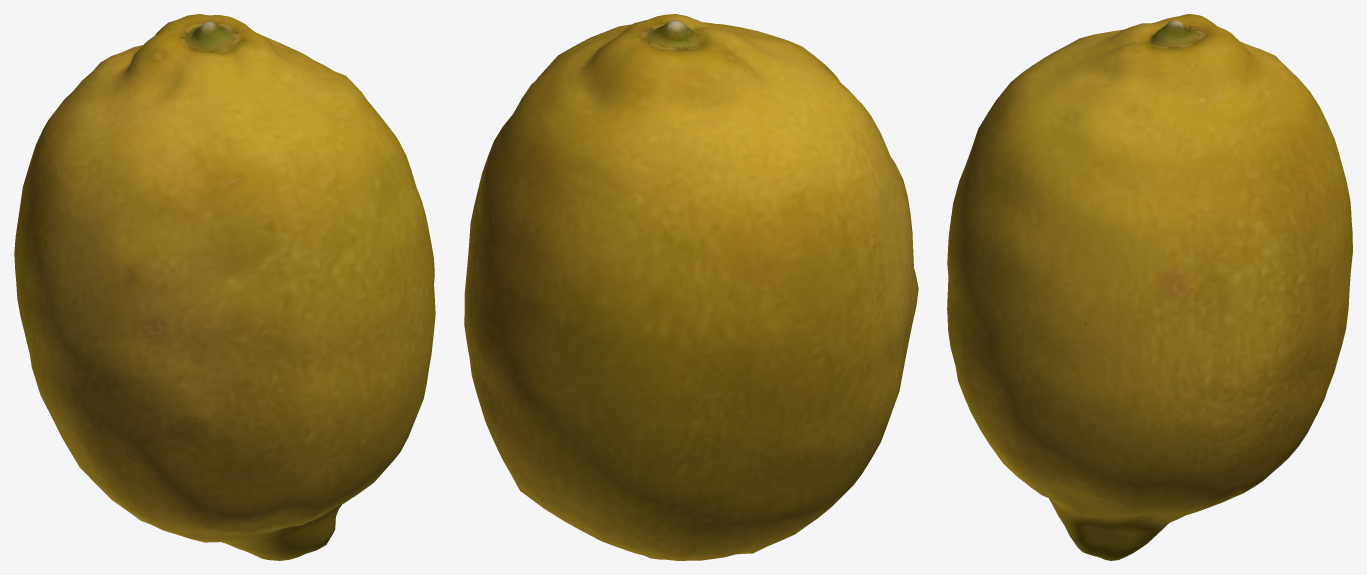
File: lemon.glb
3 views of the same model, side by side, from view 1: azimuth 30°, elevation 25°; view 2: azimuth 150°, elevation 25°; view 3: azimuth 270°, elevation 25° (orthographic). The views are drawn at different scales.
Parts seen in each view (by area): view 1: lemon; view 2: lemon; view 3: lemon.
Boxes of the visible parts, bbox=[...] form: lemon: bbox=[14, 14, 435, 560]; lemon: bbox=[464, 14, 918, 560]; lemon: bbox=[947, 14, 1352, 560].
Bounding box in the file's own units: 0.0687 × 0.0954 × 0.0683.
Materials: 1 (1 with a texture image).
